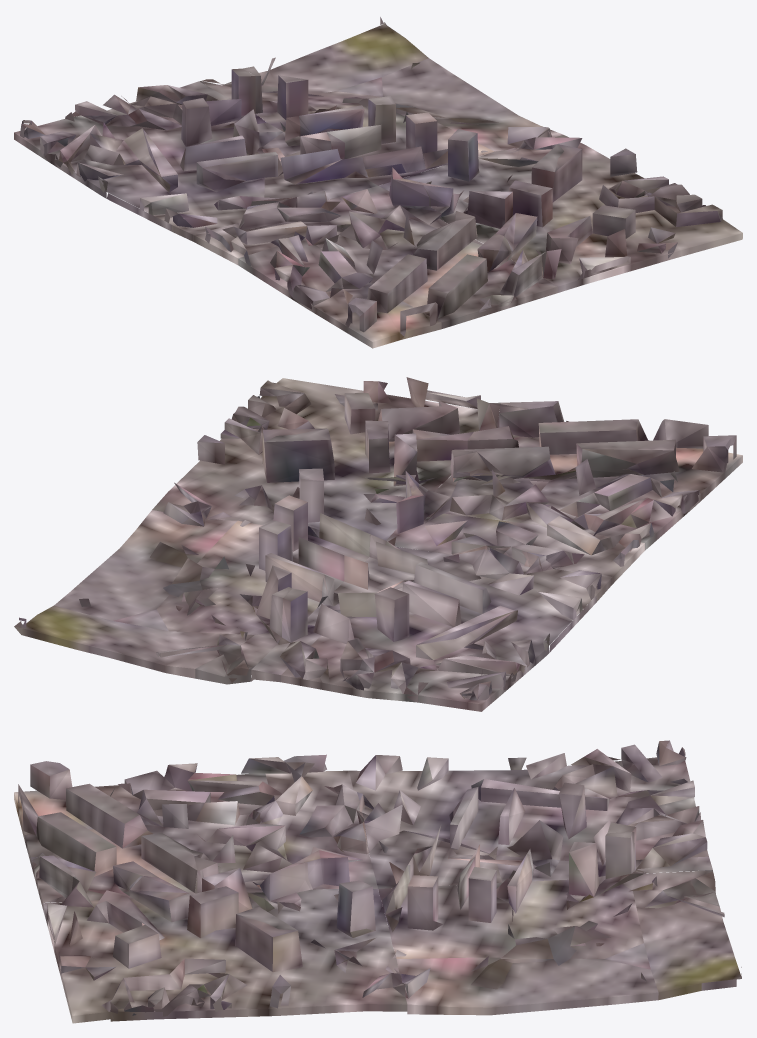
The picture shows the model from 3 angles, top to bottom: view 1: azimuth 30°, elevation 25°; view 2: azimuth 150°, elevation 25°; view 3: azimuth 270°, elevation 25°; orthographic projection. The views are drawn at different scales.
Visible parts, largest first — view 1: Mesh_0; view 2: Mesh_0; view 3: Mesh_0.
Boxes of the visible parts, x1,y1,x2,y2 form: Mesh_0: (14,17,742,348); Mesh_0: (14,377,742,711); Mesh_0: (14,740,741,1023).
Bounding box in the file's own units: 533 × 69.45 × 660.
2 materials, 2 textured.
